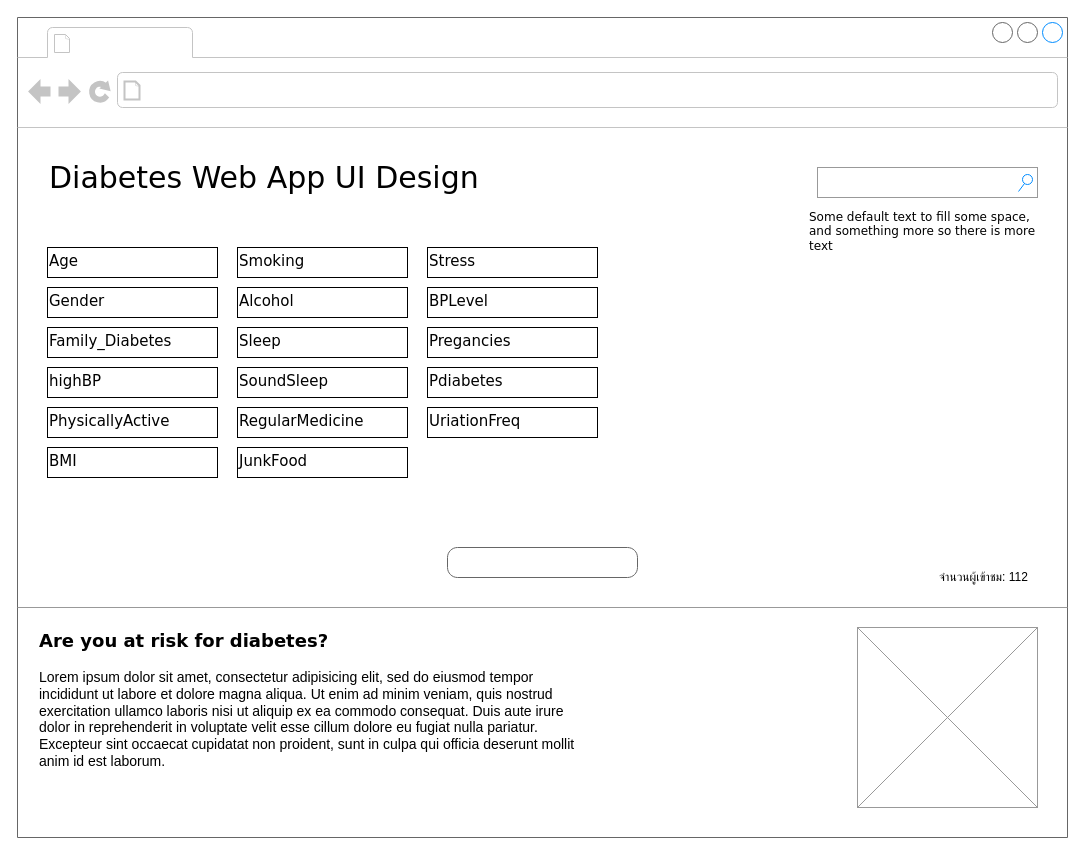
Image size: 1085x855. Some labels were removed from this diagram. Here are the shapes that lost their labels. From the top down, the centre of each, then its label:
At [132,42]: "Page 1".
At [272,90]: "https://www.default.com".
At [927,182]: "Search".
At [542,562]: "Predict".
